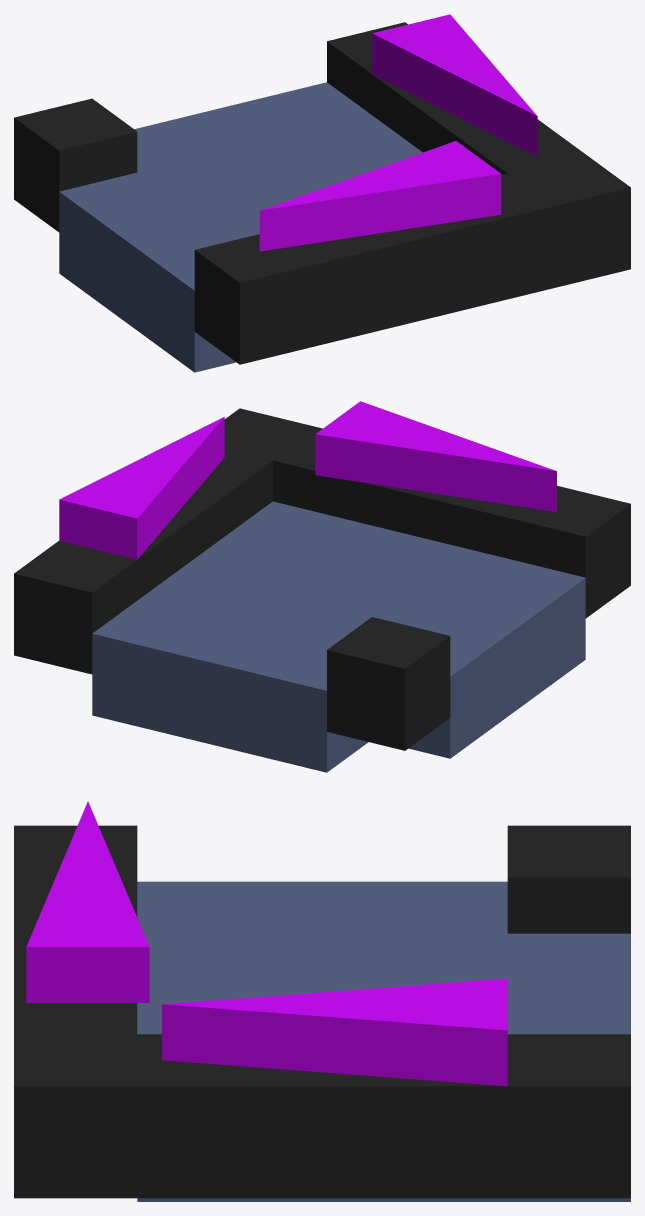
Rendered from Belt-Corner_R.fbx.
3 renders of one model, top to bottom at view 1: azimuth 30°, elevation 25°; view 2: azimuth 150°, elevation 25°; view 3: azimuth 270°, elevation 25°, orthographic. The views are drawn at different scales.
Visible parts, largest first — view 1: mergedBlocks; view 2: mergedBlocks; view 3: mergedBlocks.
Part boxes in pixels (<box>): mergedBlocks: <box>14,14,630,372</box>; mergedBlocks: <box>14,401,630,772</box>; mergedBlocks: <box>14,801,630,1201</box>.
Size of the model in its own units: 10 by 4 by 10.
Materials: 1 (1 with a texture image).
